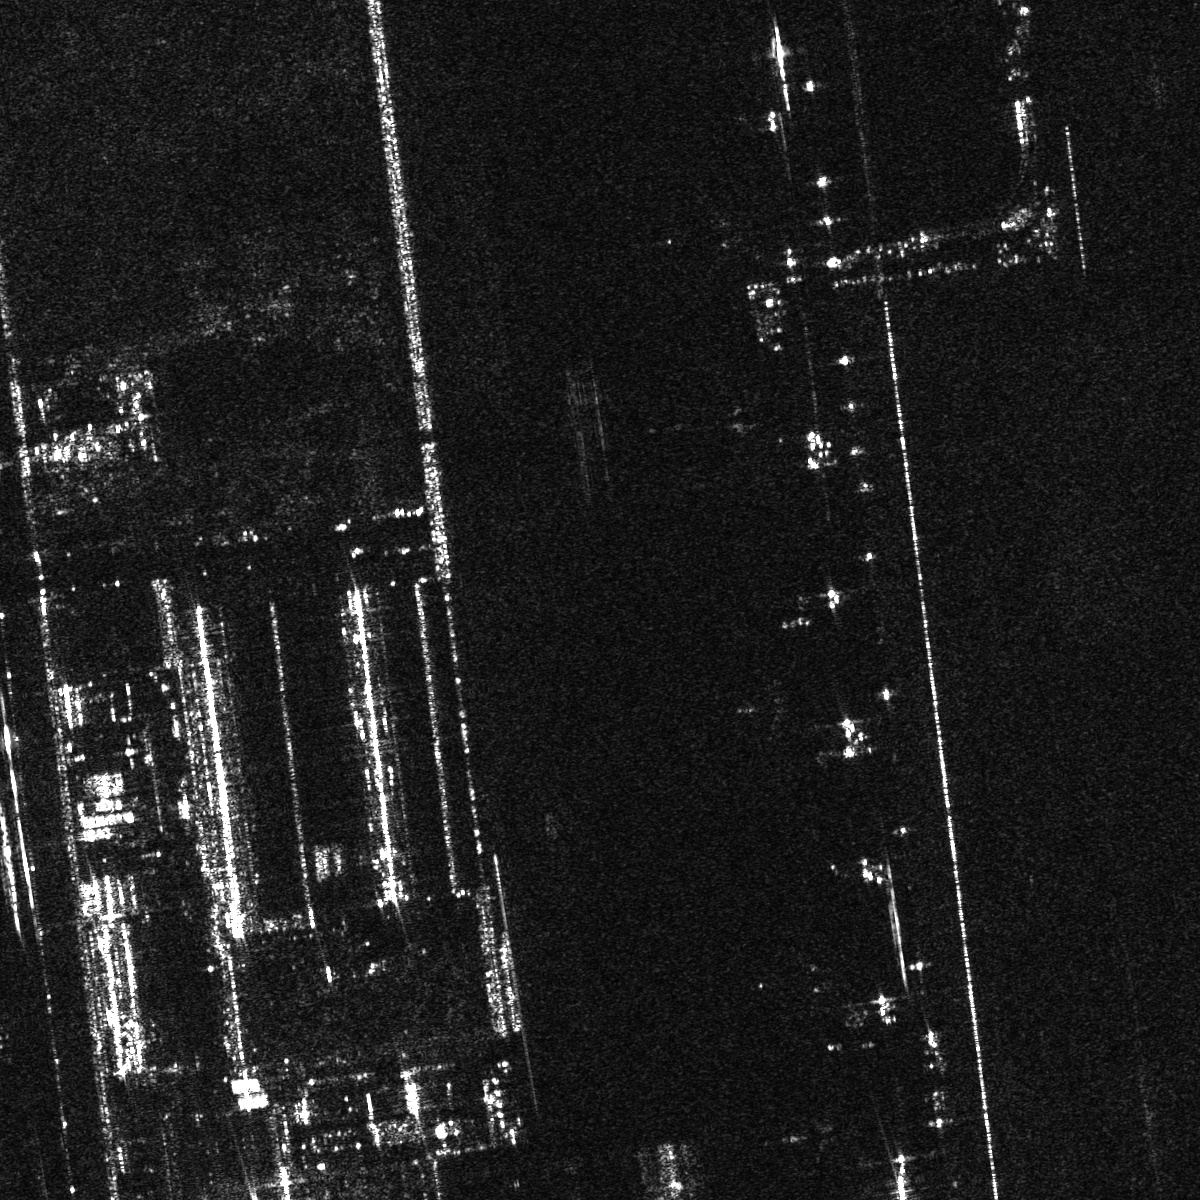A220: (773, 1104, 840, 1170)
Boeing787: (725, 670, 807, 744)
